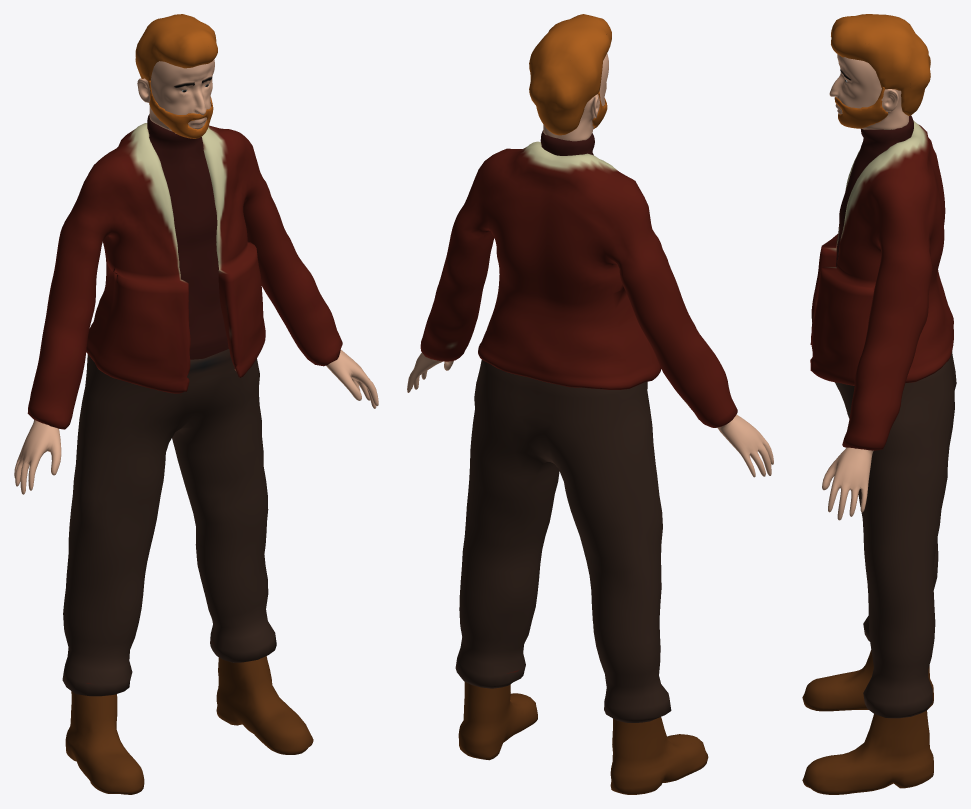
The model's file is NateFBX.fbx.
The picture shows the model from 3 angles, left to right: view 1: azimuth 30°, elevation 25°; view 2: azimuth 150°, elevation 25°; view 3: azimuth 270°, elevation 25°; orthographic projection.
Parts seen in each view (by area): view 1: head.001; view 2: head.001; view 3: head.001.
Part boxes in pixels (x1=…): head.001: x1=14, y1=14, x2=378, y2=794; head.001: x1=407, y1=14, x2=773, y2=794; head.001: x1=802, y1=14, x2=956, y2=794.
Size of the model in its own units: 91.84 by 180 by 34.69.
